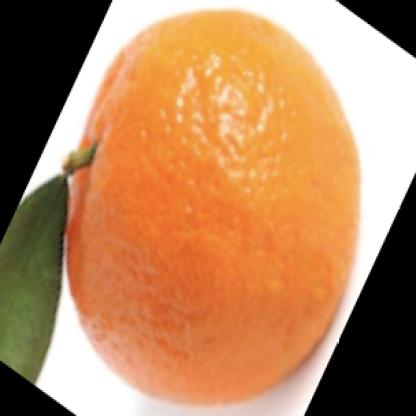fresh: (53, 12, 364, 410)
